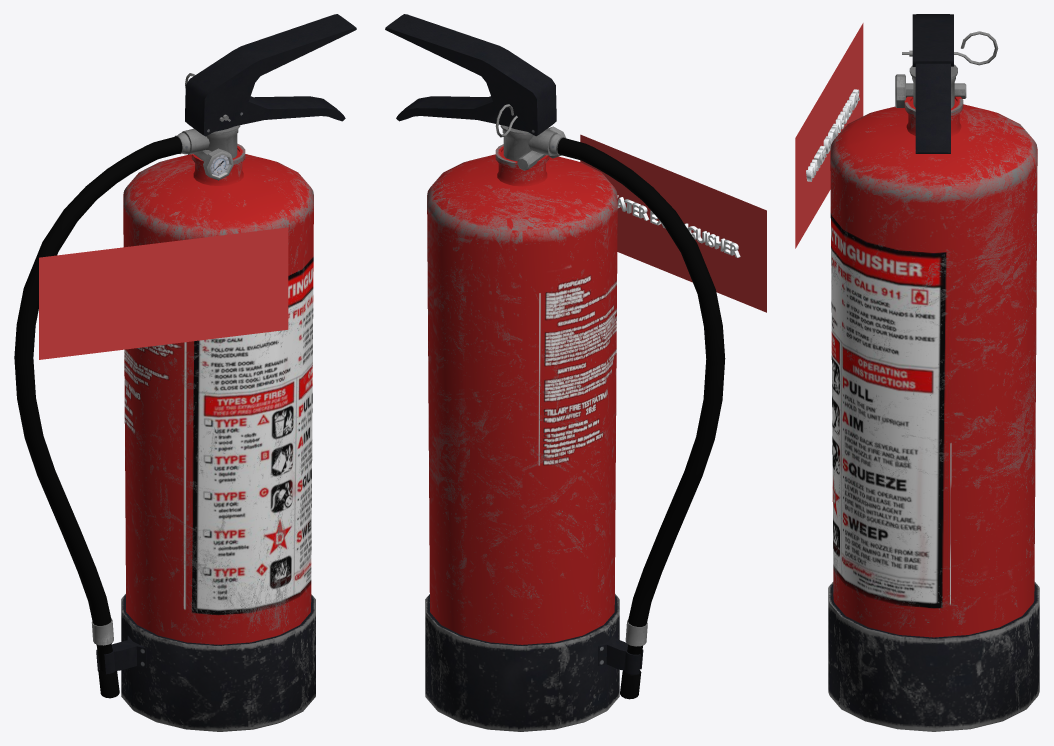
File: extinguisher-water.glb
3 views of the same model, side by side, from view 1: azimuth 30°, elevation 25°; view 2: azimuth 150°, elevation 25°; view 3: azimuth 270°, elevation 25° (orthographic). The views are drawn at different scales.
Parts seen in each view (by area): view 1: Fire_Extinguisher, Colour_Band; view 2: Fire_Extinguisher, Colour_Band, Extinguisher_Name; view 3: Fire_Extinguisher, Colour_Band, Extinguisher_Name.
Boxes of the visible parts, <box> form: Fire_Extinguisher: <box>14,14,356,731</box>; Colour_Band: <box>39,227,288,359</box>; Fire_Extinguisher: <box>385,14,725,731</box>; Colour_Band: <box>580,134,766,312</box>; Extinguisher_Name: <box>617,195,740,257</box>; Fire_Extinguisher: <box>828,14,1039,731</box>; Colour_Band: <box>795,23,863,248</box>; Extinguisher_Name: <box>806,89,859,181</box>.
Size of the model in its own units: 0.4123 by 0.7408 by 0.2359.
Materials: 3 (1 with a texture image).
